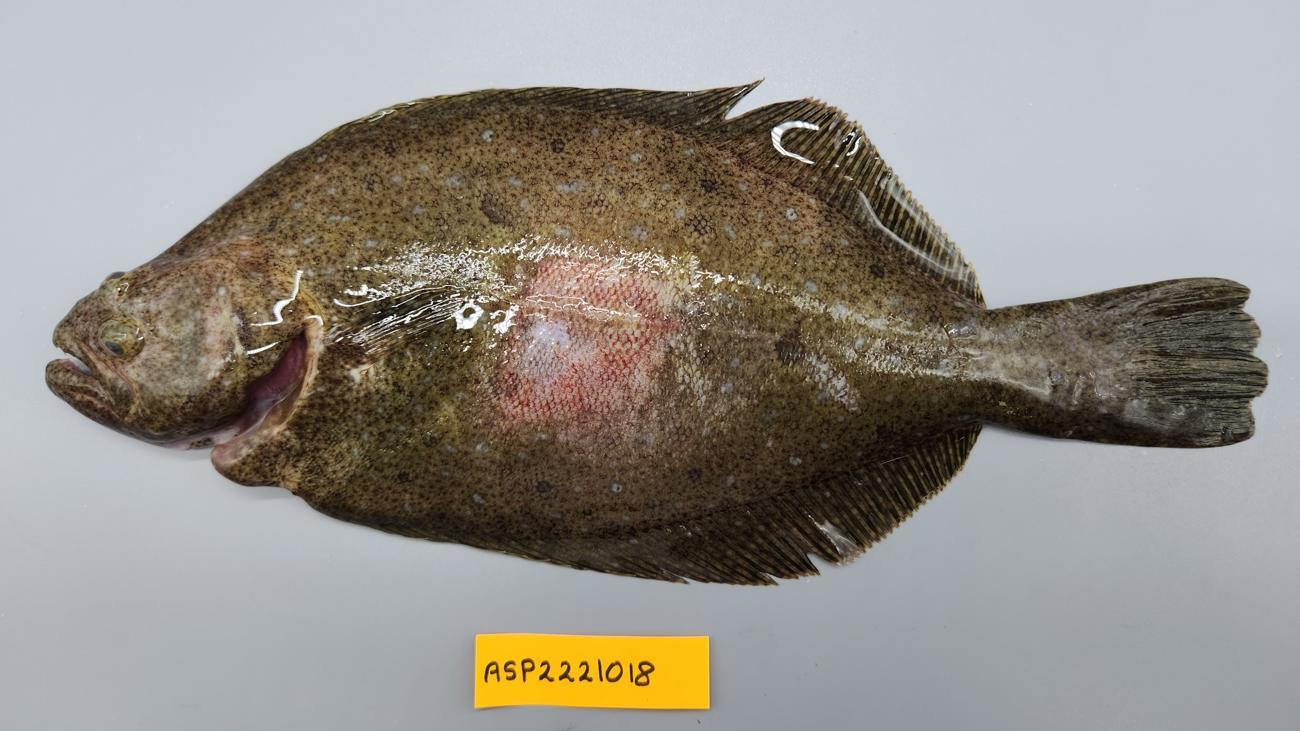SPDYH: (438, 105, 886, 256), (481, 246, 694, 443)
SPOUY: (36, 71, 1278, 594)
